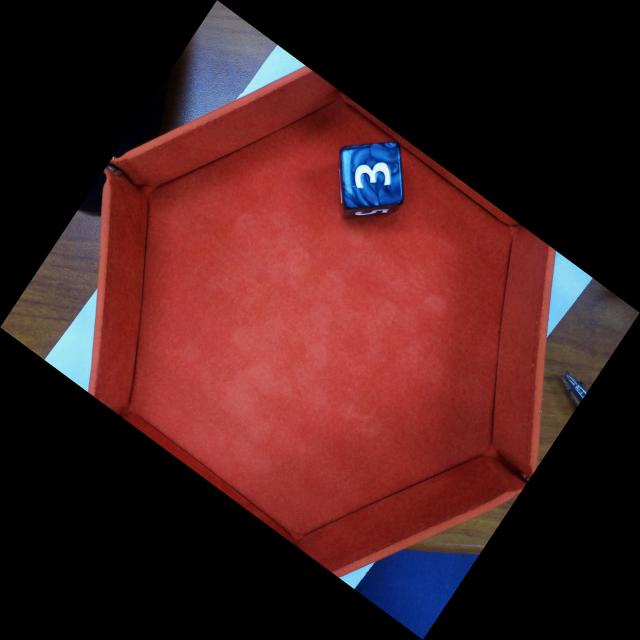dice: (339, 141, 404, 210)
